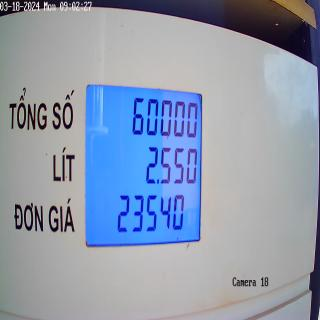screen: (83, 80, 204, 248)
